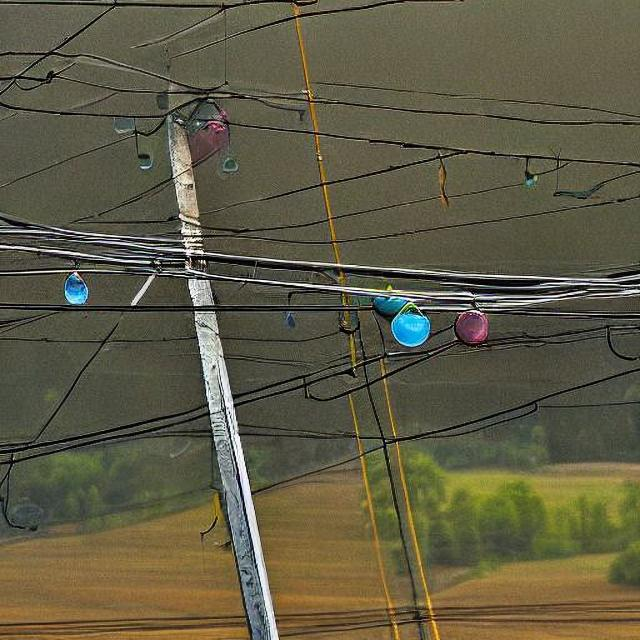balloon: (388, 300, 431, 346), (452, 306, 490, 345), (64, 263, 88, 305)
